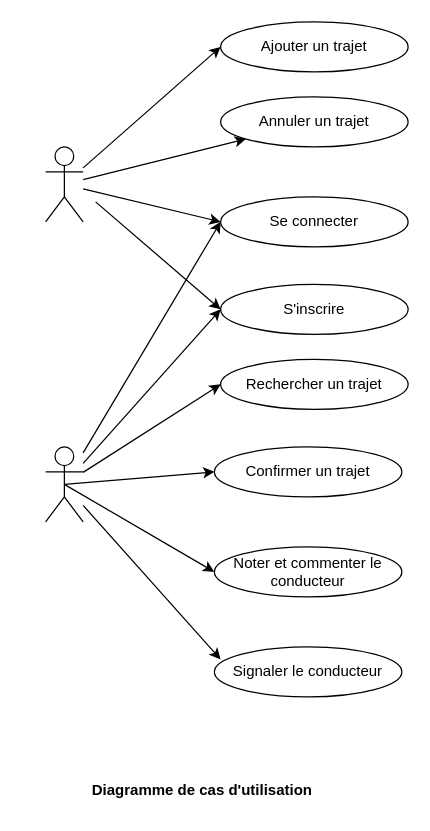
Some shapes in this 430 by 831 pixel diagram are drawn without their labels. The shapes that lost their labels are listed below. From the top down, each one's box as (x1, y1, x2, y2) in pixels, then its label:
(44, 146, 83, 222): Conducteurs
(44, 446, 83, 522): Passagers
